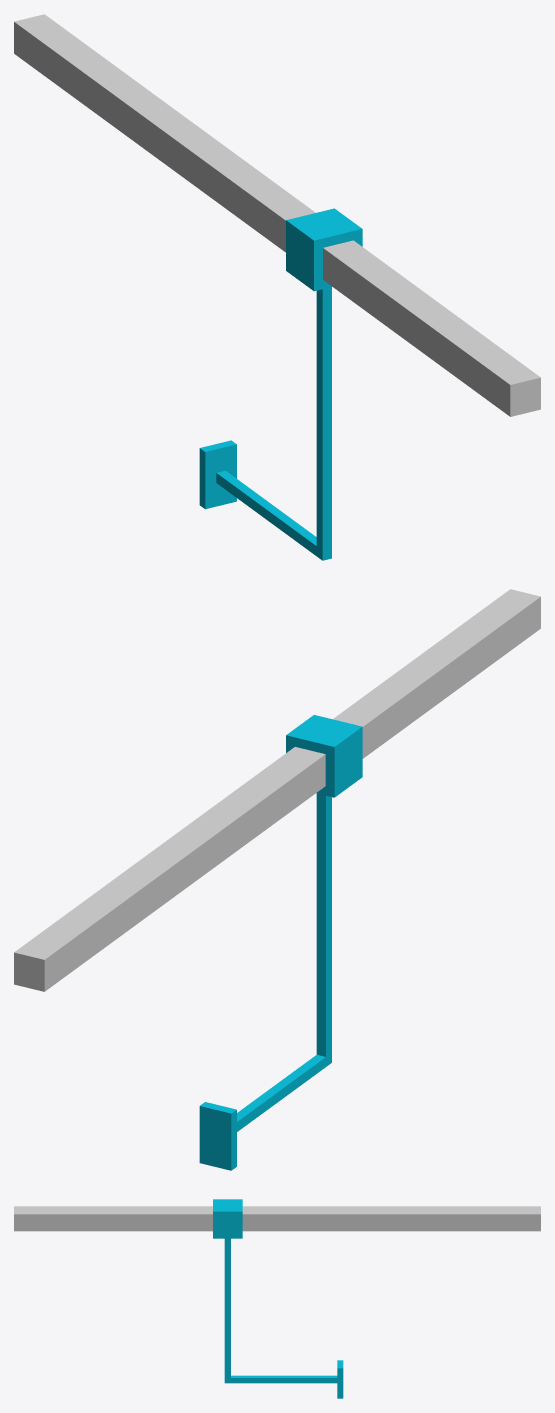
The model's file is BodyBuildMachine.fbx.
3 renders of one model, top to bottom at view 1: azimuth 30°, elevation 25°; view 2: azimuth 150°, elevation 25°; view 3: azimuth 270°, elevation 25°, orthographic. The views are drawn at different scales.
Visible parts, largest first — view 1: BodyMachineWay, BodyMachineCarry.001; view 2: BodyMachineWay, BodyMachineCarry.001; view 3: BodyMachineWay, BodyMachineCarry.001.
Boxes of the visible parts, x1,y1,x2,y2 form: BodyMachineWay: (14,14,540,416); BodyMachineCarry.001: (199,208,362,560); BodyMachineWay: (14,589,540,991); BodyMachineCarry.001: (199,715,362,1170); BodyMachineWay: (14,1206,540,1231); BodyMachineCarry.001: (213,1199,343,1398).
Size of the model in its own units: 35.8 by 635 by 252.
